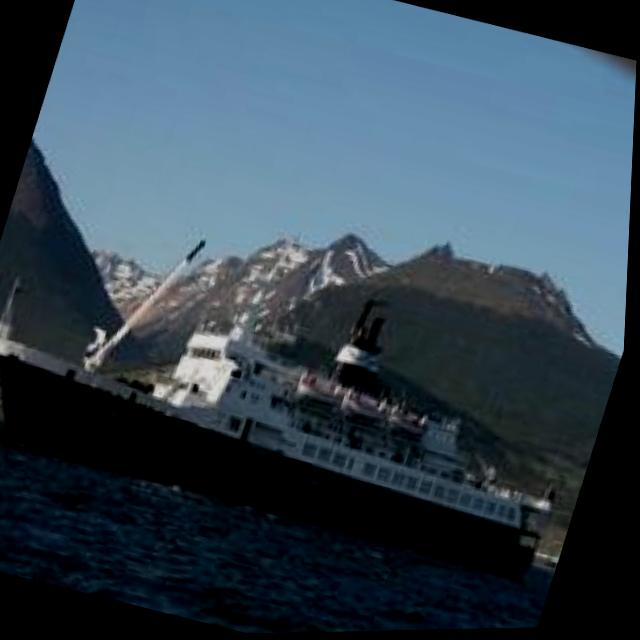ship2: (0, 240, 563, 582)
